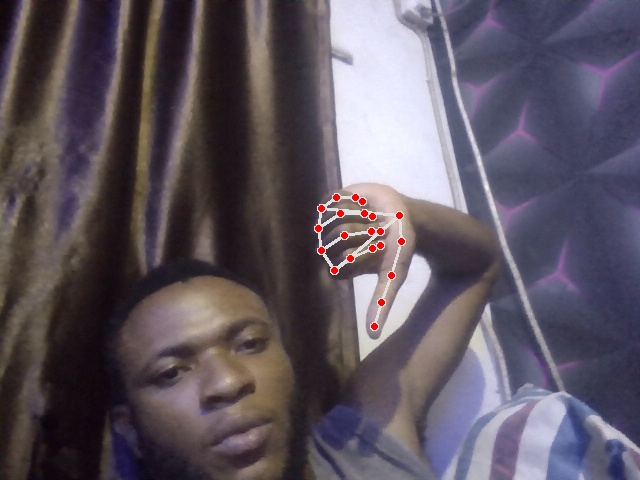thumbsdown: (312, 184, 415, 340)
